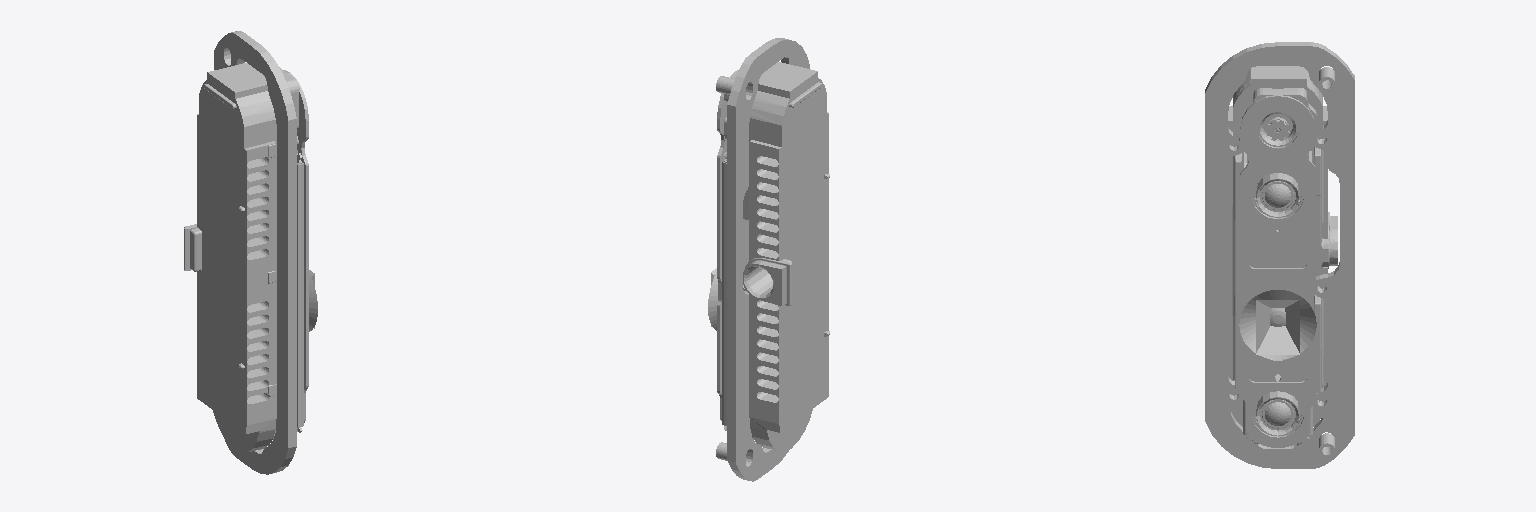
The model's file is head_camera.obj.
The picture shows the model from 3 angles: view 1: azimuth 30°, elevation 25°; view 2: azimuth 150°, elevation 25°; view 3: azimuth 270°, elevation 25°; orthographic projection.
Visible parts, largest first — view 1: obj1; view 2: obj1; view 3: obj1.
Boxes of the visible parts, x1,y1,x2,y2 form: obj1: [184, 31, 317, 474]; obj1: [708, 38, 829, 481]; obj1: [1205, 42, 1354, 468].
Size of the model in its own units: 0.0227 by 0.0968 by 0.031.